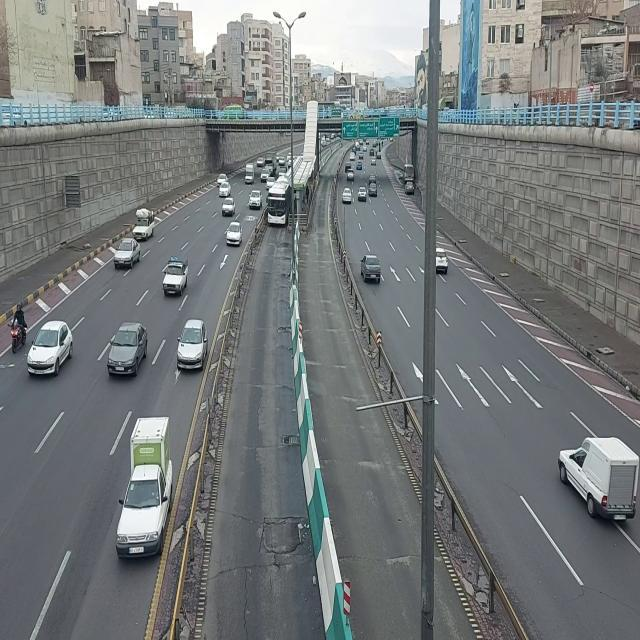Bus: (267, 182, 291, 226)
Car: (106, 318, 152, 383), (27, 320, 73, 380), (173, 314, 209, 375), (112, 237, 140, 271), (360, 253, 382, 285), (436, 245, 452, 277), (227, 221, 241, 247), (249, 188, 263, 210), (222, 197, 236, 217), (219, 181, 231, 197), (342, 187, 352, 205), (260, 168, 271, 184), (357, 186, 367, 202), (404, 181, 414, 197), (368, 183, 378, 197), (217, 173, 229, 183), (347, 168, 355, 182), (278, 155, 286, 167), (368, 173, 376, 183), (257, 157, 265, 167), (356, 160, 363, 170), (349, 151, 356, 161), (370, 156, 376, 166), (369, 147, 375, 157), (377, 151, 383, 159), (359, 152, 364, 160), (363, 144, 368, 152)
Motorcycle: (7, 300, 27, 354), (381, 140, 383, 148)
Pickup: (114, 415, 176, 567), (559, 433, 640, 523), (163, 256, 189, 298), (132, 207, 155, 242), (245, 162, 255, 186)
Truck: (265, 151, 277, 169)
